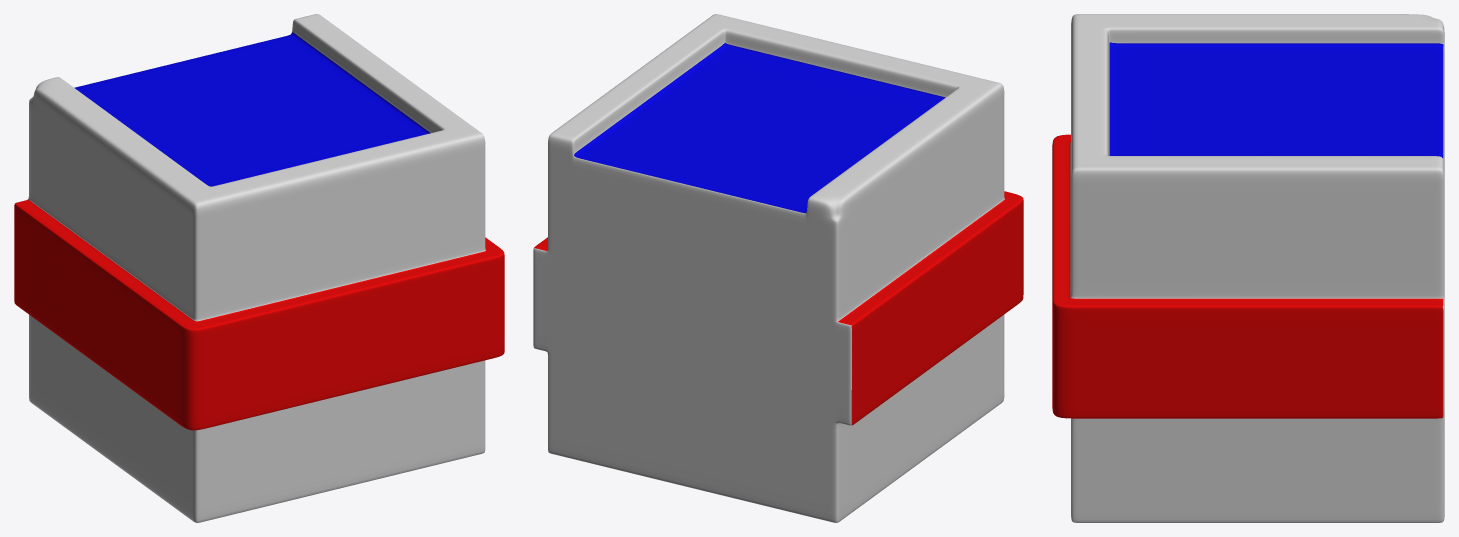
Rendered from FontHead_LP_FBX.fbx.
3 renders of one model, left to right at view 1: azimuth 30°, elevation 25°; view 2: azimuth 150°, elevation 25°; view 3: azimuth 270°, elevation 25°, orthographic. The views are drawn at different scales.
Parts seen in each view (by area): view 1: pCube31; view 2: pCube31; view 3: pCube31.
Boxes of the visible parts, left/top/right/bottom form: pCube31: left=14, top=14, right=504, bottom=522; pCube31: left=533, top=14, right=1023, bottom=522; pCube31: left=1052, top=14, right=1444, bottom=522.
Bounding box in the file's own units: 110 × 105 × 105.
